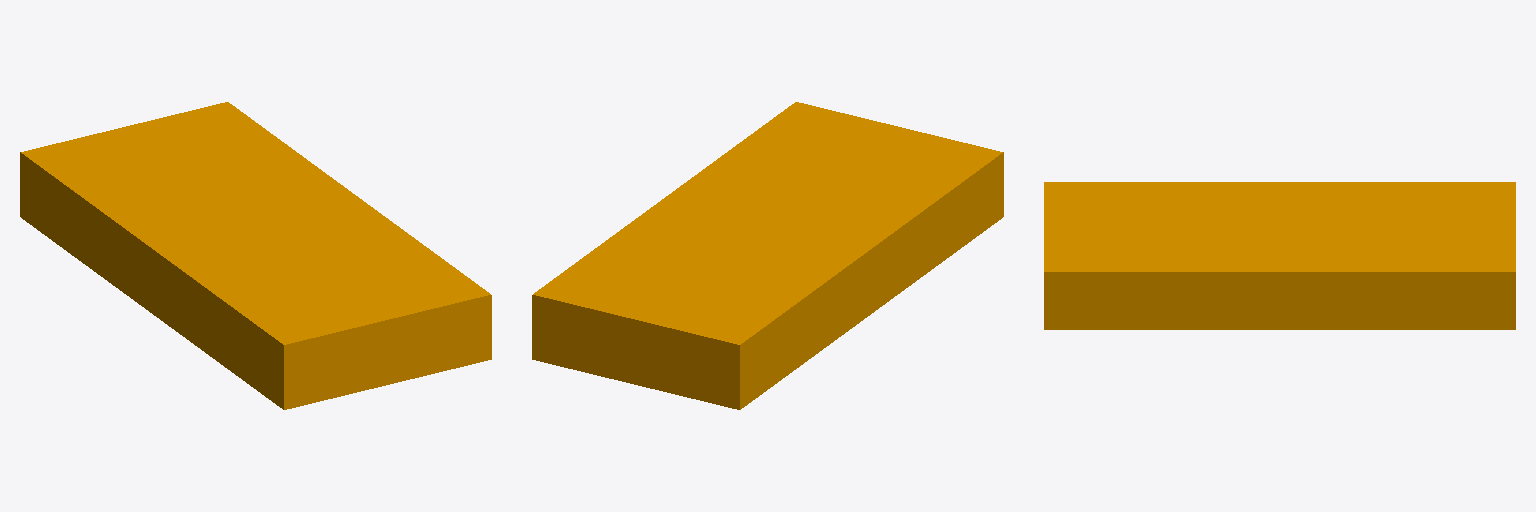
robot.urdf — shampoo_box2.urdf:
<?xml version="1.0" ?>
<robot name="shampoo_box2.urdf">
  <link name="baseLink">
    <contact>
      <lateral_friction value="0.5"/>
      <rolling_friction value="0.0"/>
      <contact_cfm value="0.0"/>
      <contact_erp value="1.0"/>
    </contact>
    <inertial>
      <origin rpy="0 0 0" xyz="0.0 0.0 0.0"/>
       <mass value=".1"/>
       <inertia ixx="1" ixy="0" ixz="0" iyy="1" iyz="0" izz="1"/>
    </inertial>
    <visual>
      <origin rpy="0 0 0" xyz="0 0 0"/>
      <geometry>
        <mesh filename="shampoo_box2.obj" scale=".1 .10 .10"/> #scale="1 1 1"
      </geometry>
    </visual>
    <collision>
      <origin rpy="0 0 0" xyz="0 0 0"/>
      <geometry>
	 <mesh filename="shampoo_box2.obj" scale=".10 .10 .10"/> #scale=".1 .1 .1"
      </geometry>
    </collision>
  </link>
</robot>

--- What the picture shows (computed from the rendered views, not written in the file) ---
3 views of the same robot in one strip: view 1: azimuth 30°, elevation 25°; view 2: azimuth 150°, elevation 25°; view 3: azimuth 270°, elevation 25° (orthographic).
Model shampoo_box2.urdf with 1 links and 0 joints (none), rooted at baseLink, posed all joints at 0.
Links seen in each view (by area): view 1: baseLink; view 2: baseLink; view 3: baseLink.
Boxes of the visible links, box(x1,y1,x2,y2) form: baseLink: box(20, 102, 491, 409); baseLink: box(532, 102, 1003, 409); baseLink: box(1044, 182, 1515, 329).
Size in the robot's own frame: 0.2 by 0.44 by 0.06 metres.
Meshes: 1 distinct files referenced, 1 mesh visuals loaded (1 OBJ).